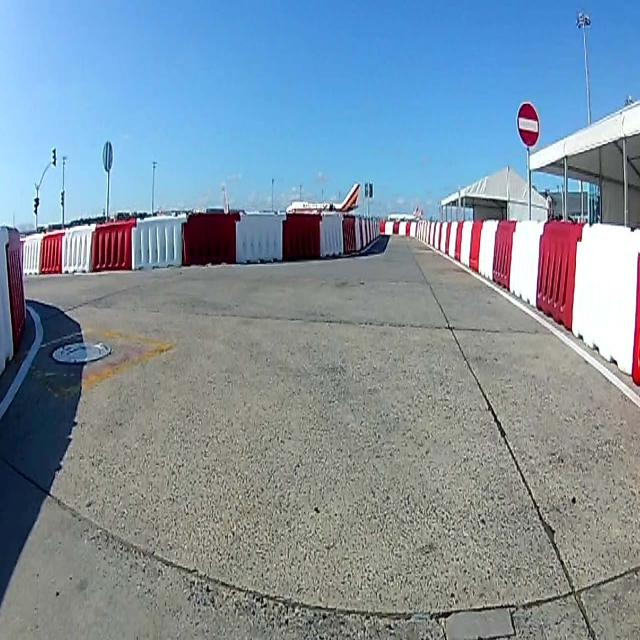girisyok: (517, 98, 539, 149)
